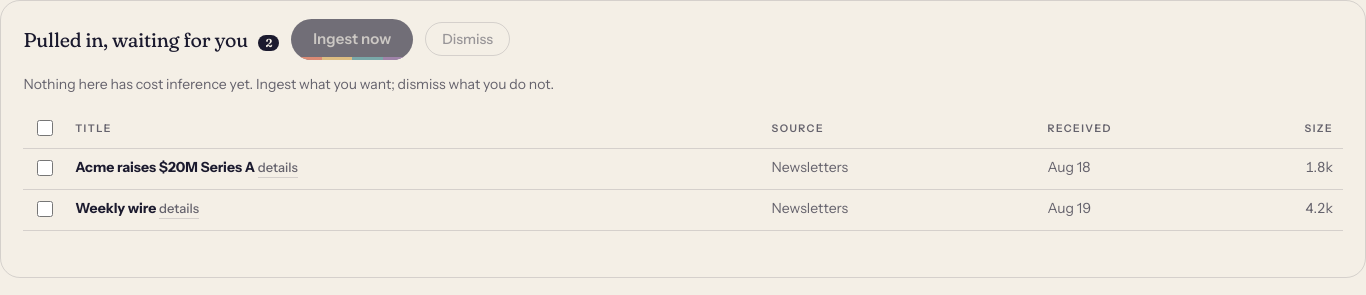
Test: Held › ingests exactly the selected items through the typed client
Click the checkbox named "Select Acme raises $20M Series A" at (45, 168), box [37,160,53,176]
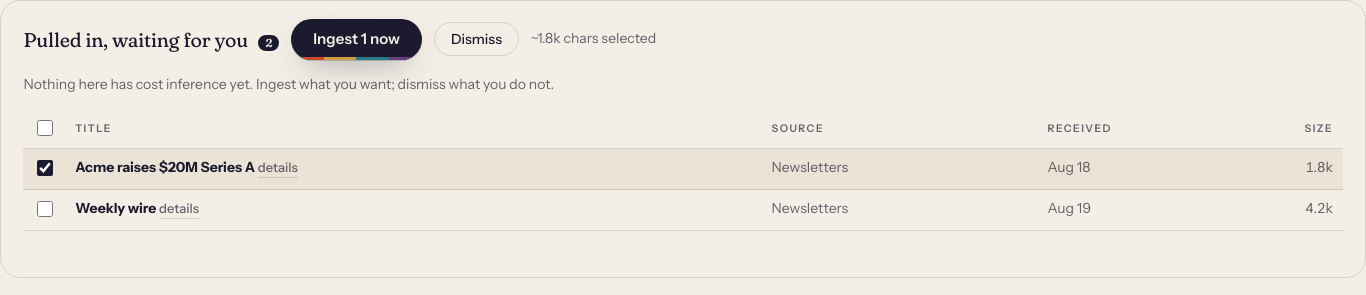
Click the button "Ingest 1 now" at (357, 39), box [291,19,422,60]
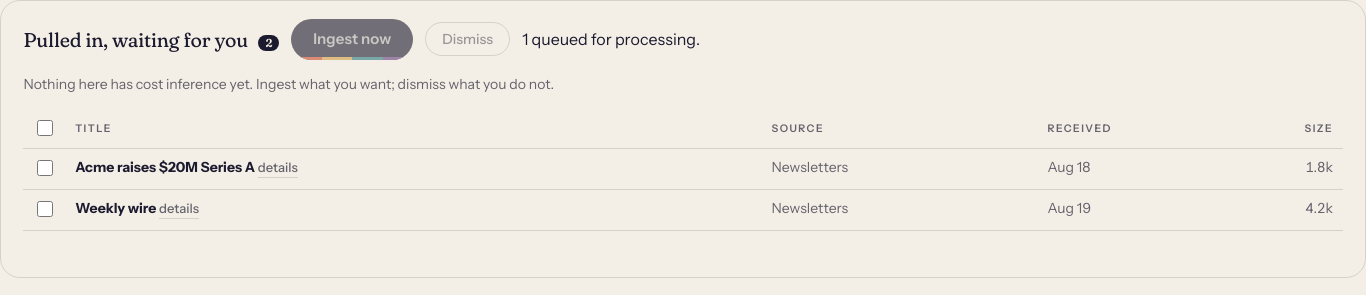
Now the message reads "1 queued for processing.", box [522,29,700,49]
